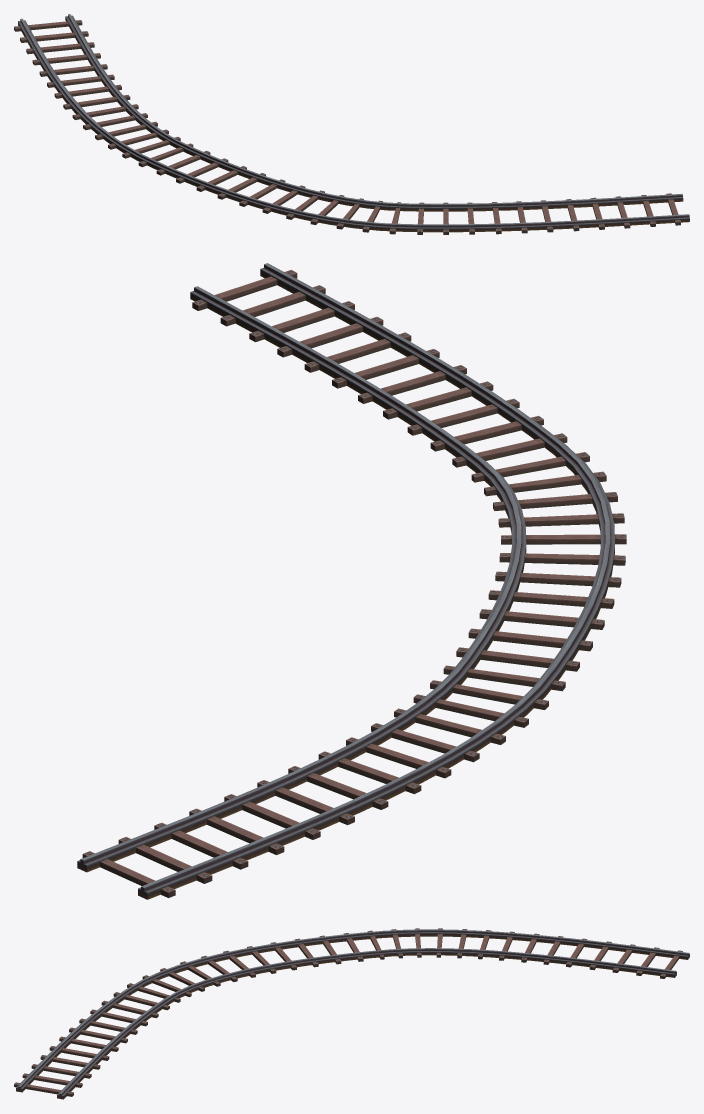
The model's file is scene_malujiakuangdao_tielu03.FBX.
The picture shows the model from 3 angles, top to bottom: view 1: azimuth 30°, elevation 25°; view 2: azimuth 150°, elevation 25°; view 3: azimuth 270°, elevation 25°; orthographic projection. The views are drawn at different scales.
Parts seen in each view (by area): view 1: scene_malujiakuangdao_tielu03; view 2: scene_malujiakuangdao_tielu03; view 3: scene_malujiakuangdao_tielu03.
Part boxes in pixels (x1,y1,x2,y2): scene_malujiakuangdao_tielu03: [14, 14, 689, 234]; scene_malujiakuangdao_tielu03: [77, 263, 626, 899]; scene_malujiakuangdao_tielu03: [14, 928, 689, 1099].
Size of the model in its own units: 1437 by 20.79 by 2438.
